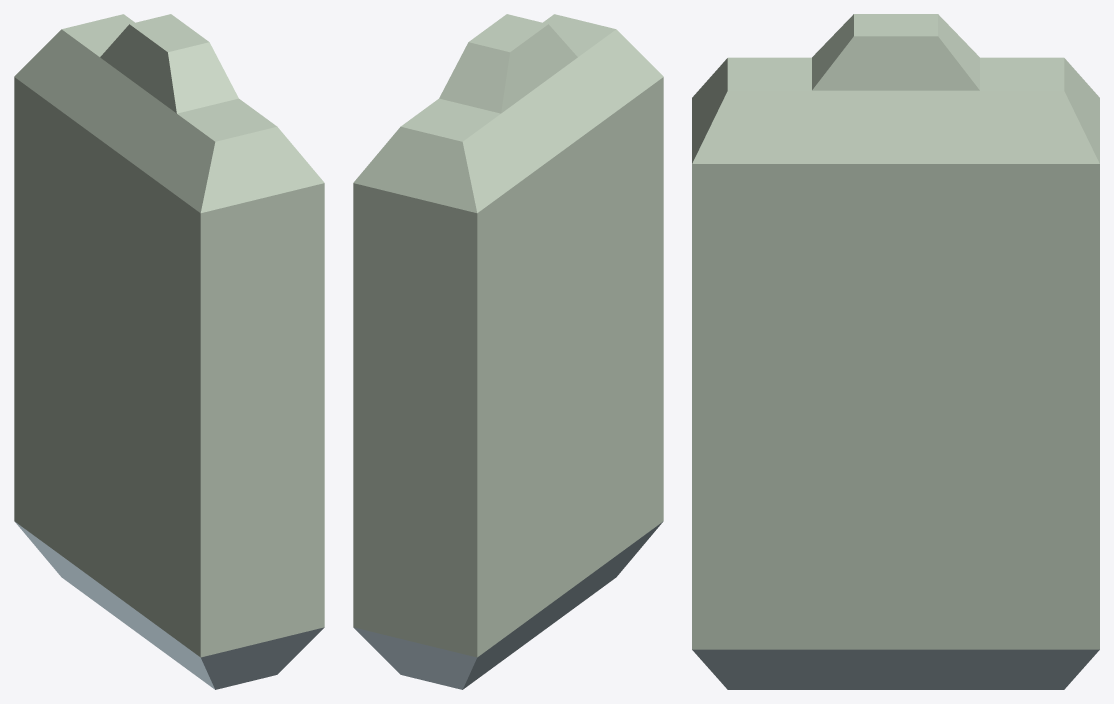
File: FastMutantTorso.fbx
The picture shows the model from 3 angles, left to right: view 1: azimuth 30°, elevation 25°; view 2: azimuth 150°, elevation 25°; view 3: azimuth 270°, elevation 25°; orthographic projection. The views are drawn at different scales.
Parts seen in each view (by area): view 1: FastMutantTorso; view 2: FastMutantTorso; view 3: FastMutantTorso.
Boxes of the visible parts, <box> form: FastMutantTorso: <box>14,14,324,689</box>; FastMutantTorso: <box>353,14,663,689</box>; FastMutantTorso: <box>692,14,1099,689</box>.
Size of the model in its own units: 0.1568 by 0.7157 by 0.408.
